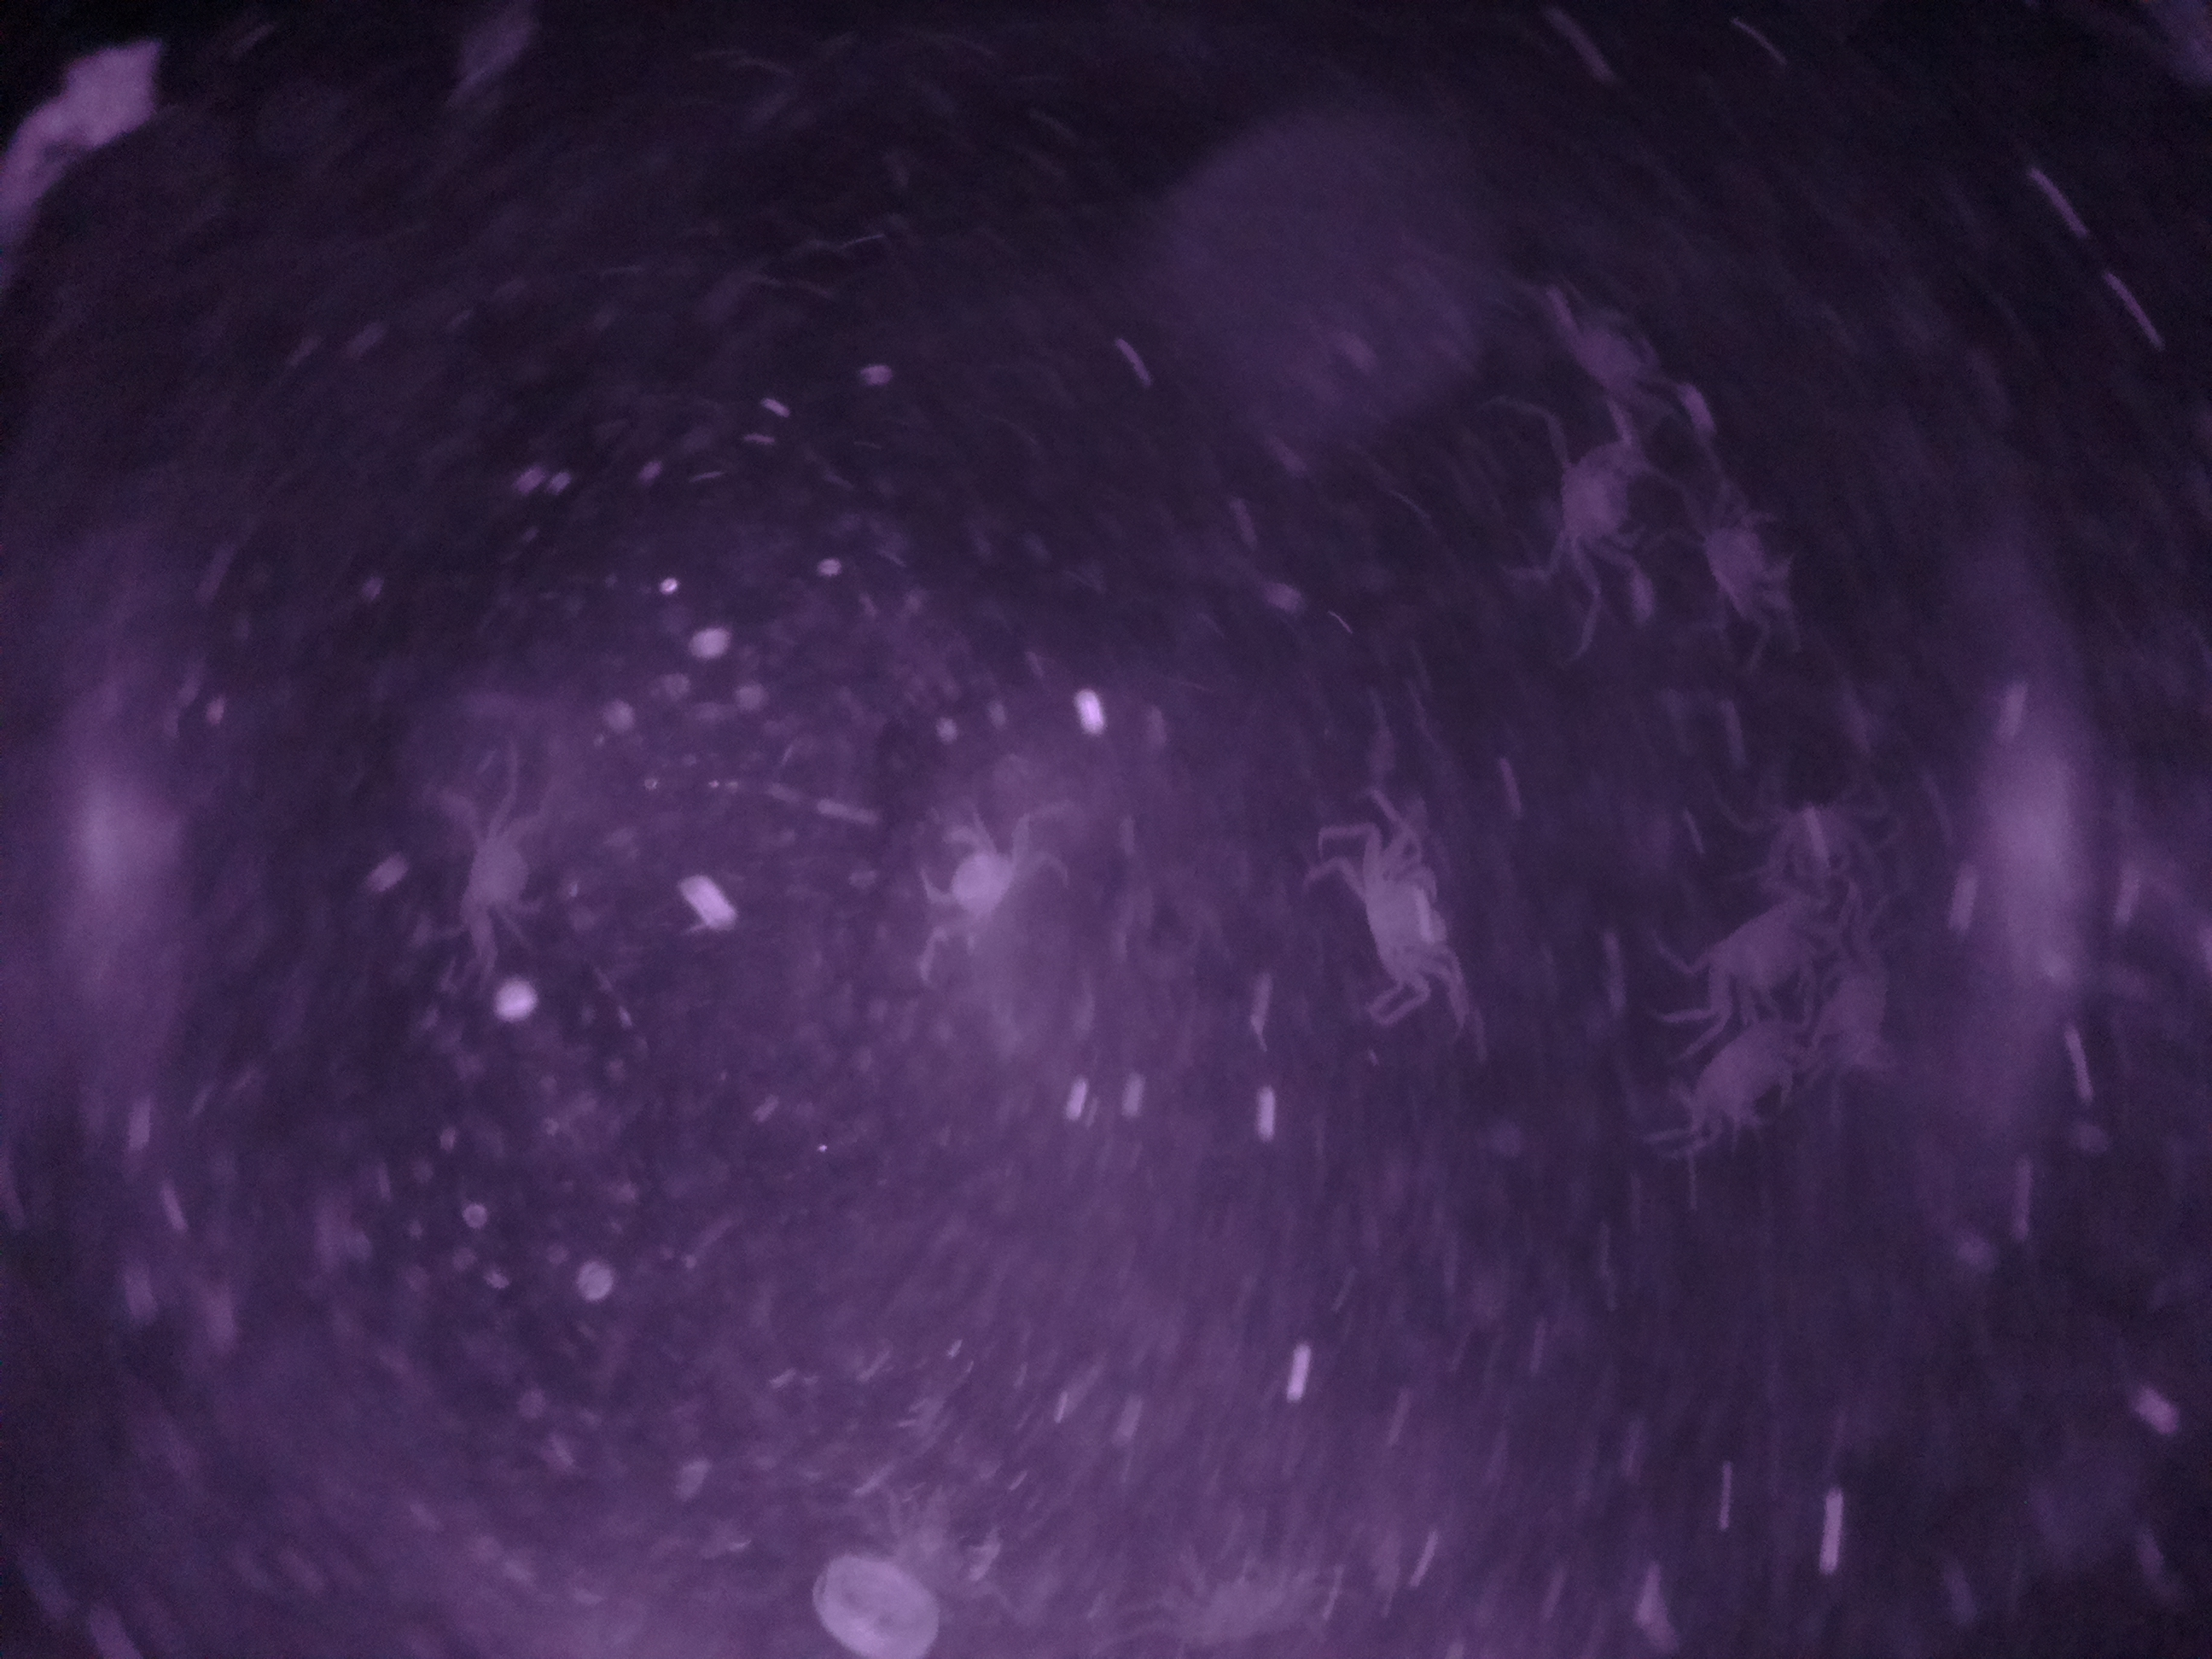Crab: (1350, 805, 1486, 1007)
